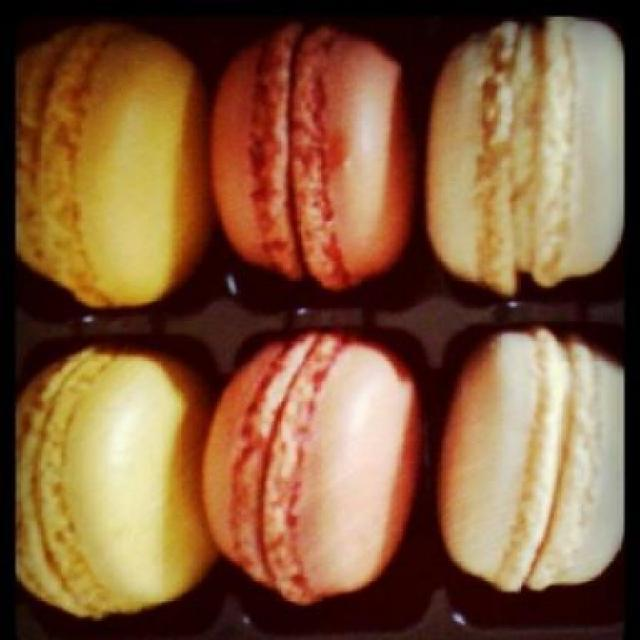Macaron: (18, 19, 632, 610)
